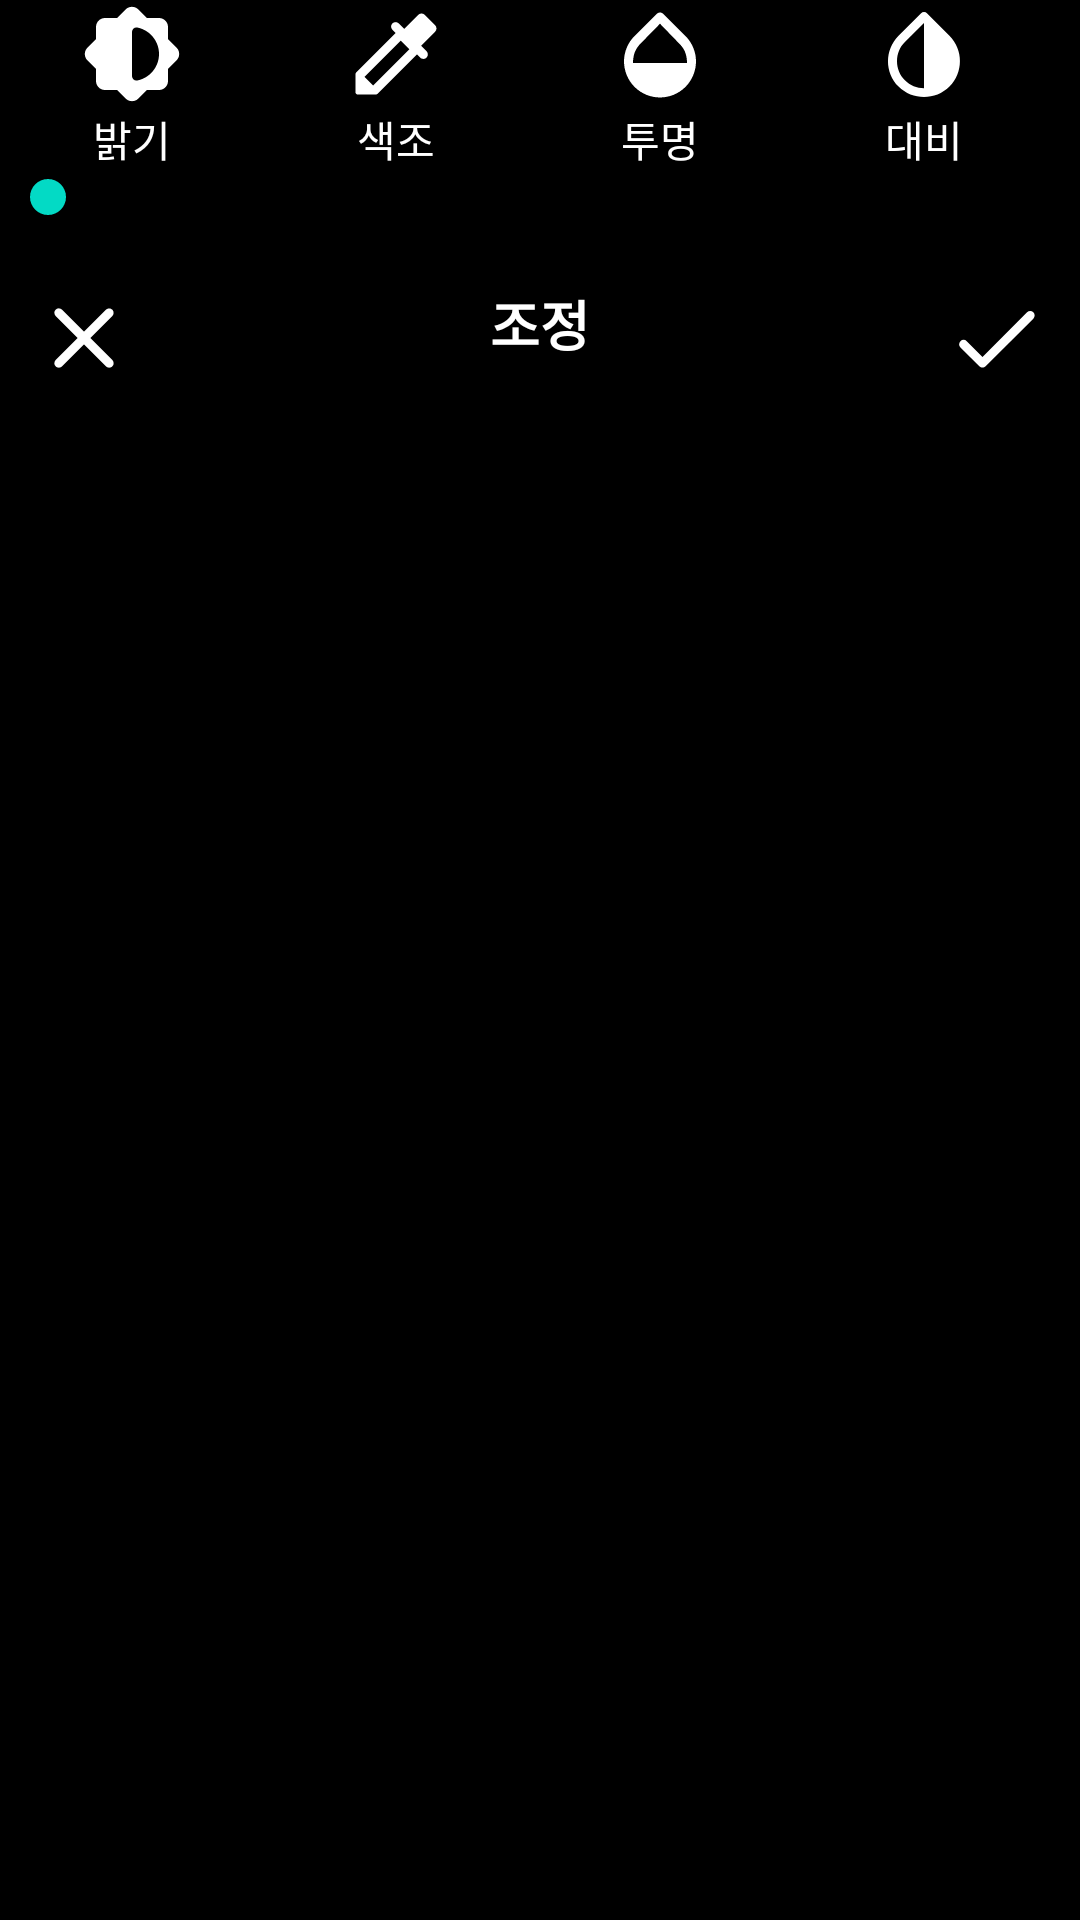

Named icons in this screenshot (1080 × 1920) and their bounding boxes, (x1,y1,x2,y2):
close: (54,308,114,368)
done: (959,311,1035,368)
